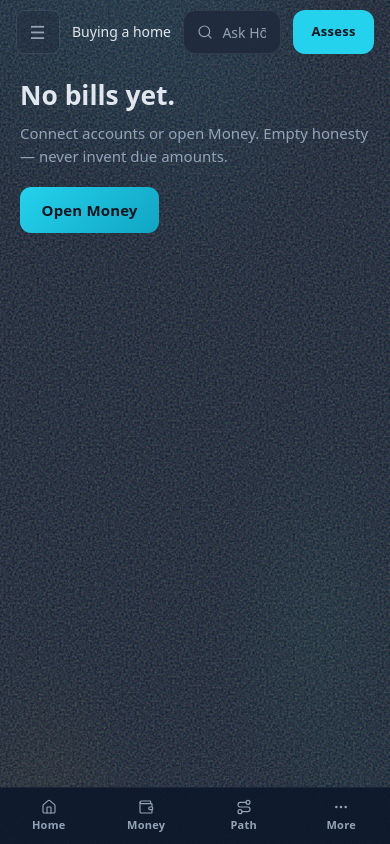
System surfaces v4 in Shell v4 › More sheet still lists Budget, Bills, Tools, Learn, Accounts, Settings
The image size is (390, 844).
Click the button "More": (341, 816) [292,788,389,843]
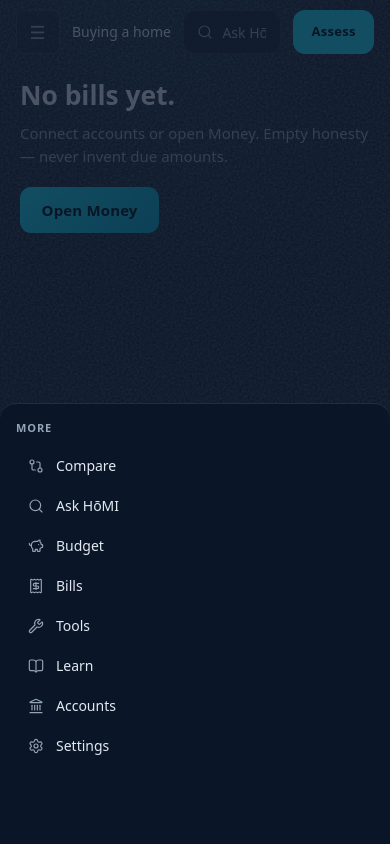
Expected: the list shows "Budget", [16,528,374,564]
Expected: the list shows "Bills", [16,568,374,604]
Expected: the list shows "Tools", [16,608,374,644]
